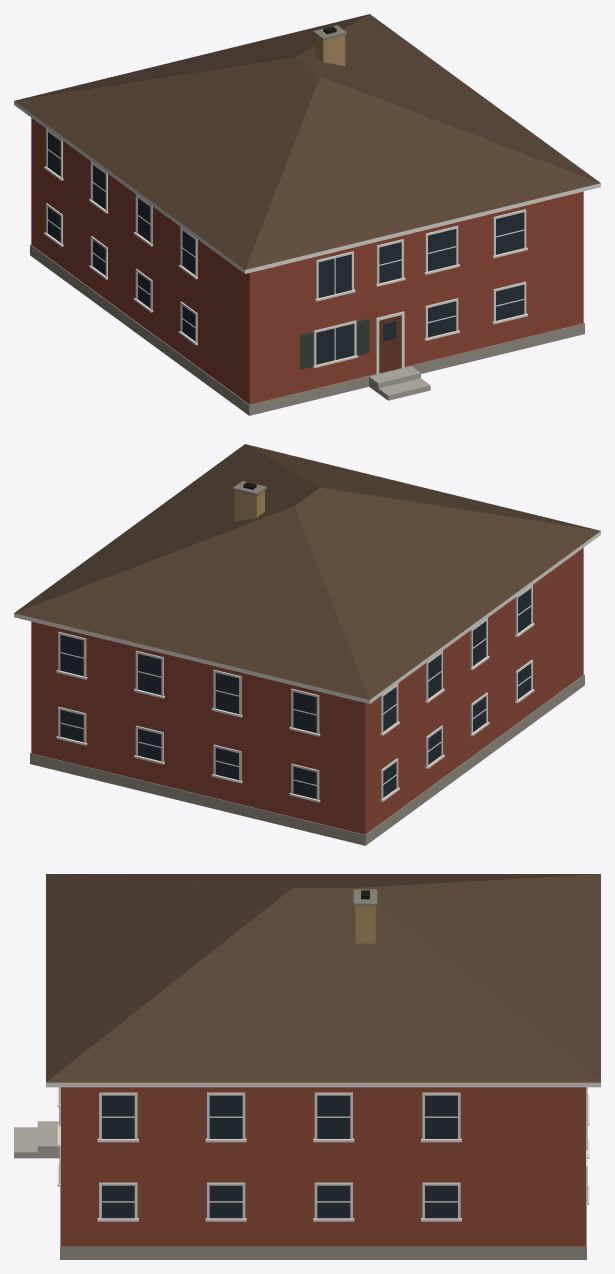
The model's file is house-0001.glb.
3 renders of one model, top to bottom at view 1: azimuth 30°, elevation 25°; view 2: azimuth 150°, elevation 25°; view 3: azimuth 270°, elevation 25°, orthographic. The views are drawn at different scales.
Visible parts, largest first — view 1: house_roof, house_wall, house_glass, house_trim, house_foundation, house_concrete, house_door, house_shutter, house_chimney; view 2: house_roof, house_wall, house_glass, house_trim, house_foundation, house_chimney; view 3: house_roof, house_wall, house_glass, house_trim, house_foundation, house_concrete, house_chimney.
Part boxes in pixels (<box>): house_roof: <box>14,14,600,269</box>; house_wall: <box>31,118,583,404</box>; house_glass: <box>47,132,523,364</box>; house_trim: <box>14,101,600,374</box>; house_foundation: <box>30,244,584,415</box>; house_concrete: <box>369,366,430,400</box>; house_door: <box>379,315,401,373</box>; house_shutter: <box>300,318,369,369</box>; house_chimney: <box>315,35,345,65</box>; house_roof: <box>14,444,600,699</box>; house_wall: <box>31,548,583,834</box>; house_glass: <box>60,588,530,798</box>; house_trim: <box>14,531,600,802</box>; house_foundation: <box>30,674,584,845</box>; house_chimney: <box>234,491,264,521</box>; house_roof: <box>46,874,600,1082</box>; house_wall: <box>61,1087,585,1246</box>; house_glass: <box>102,1095,457,1218</box>; house_trim: <box>46,1082,600,1221</box>; house_foundation: <box>60,1186,586,1259</box>; house_concrete: <box>14,1121,59,1158</box>; house_chimney: <box>355,906,375,943</box>.
Bounding box in the file's own units: 14.66 × 9.57 × 17.44.
